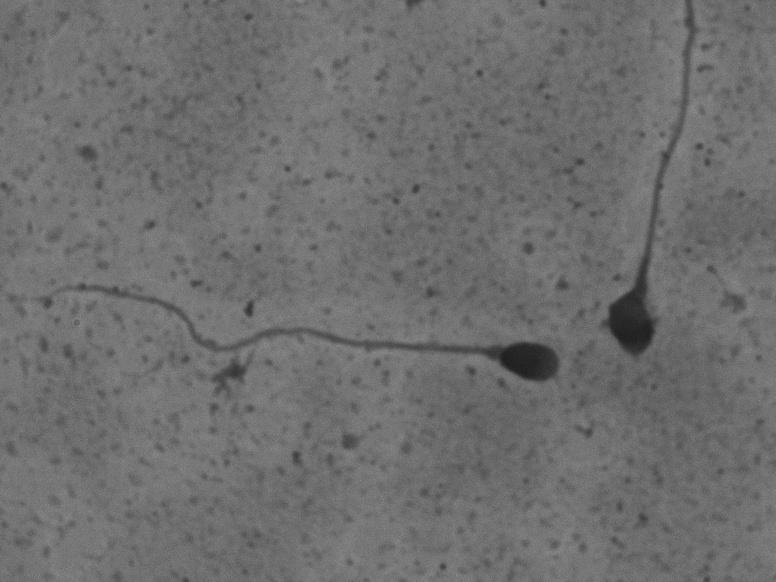Abnormal: (591, 4, 714, 372)
Normal: (28, 270, 572, 398)
